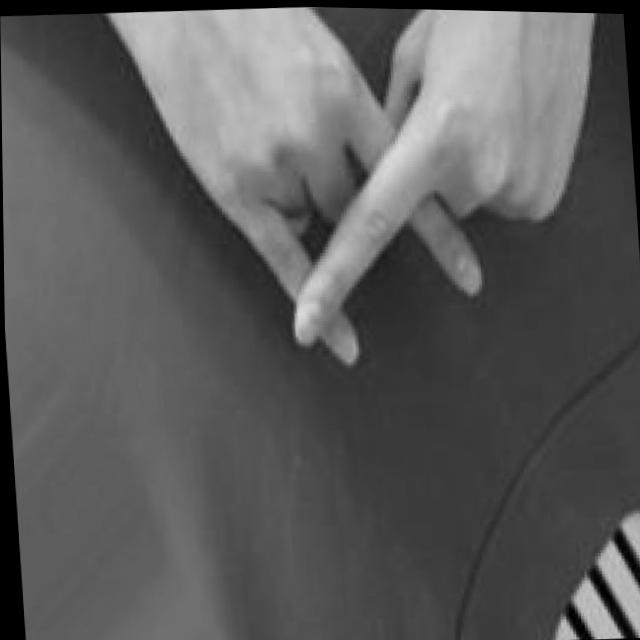H: (92, 2, 624, 392)
